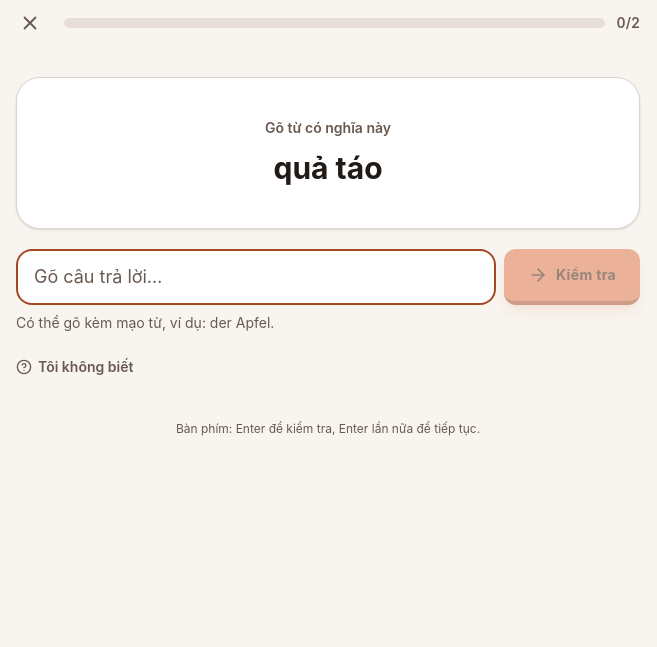
Scenario: PlayPage › checks a typed answer on the server and shows what was typed when wrong
The width and height of the screenshot is (657, 647).
Expected: the text "Có thể gõ kèm mạo từ, ví dụ: der Apfel." is shown, 16,314 -> 274,330
Step 1. Type "der Apfel" into the field named "Câu trả lời của bạn" → {"x": 256, "y": 276}, box 16,248 -> 496,304
Then press Enter
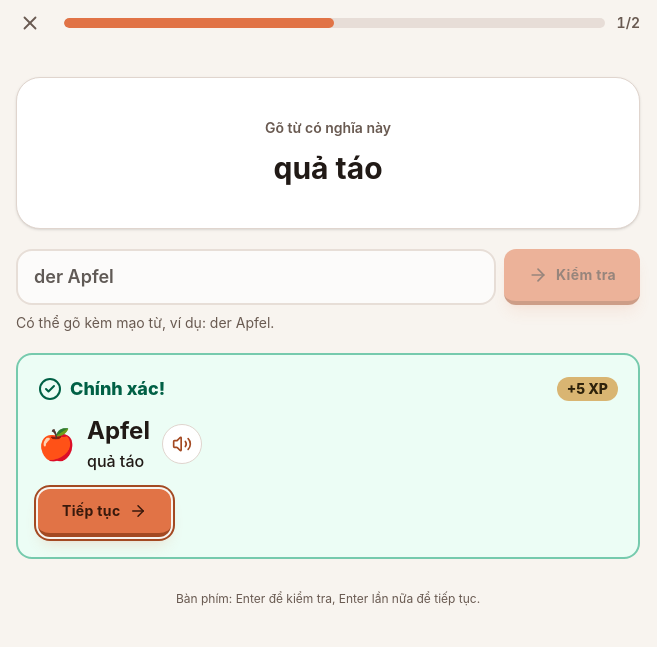
Result: the text "Chính xác!" is shown at 70,378 -> 165,398
Step 2. Press Enter
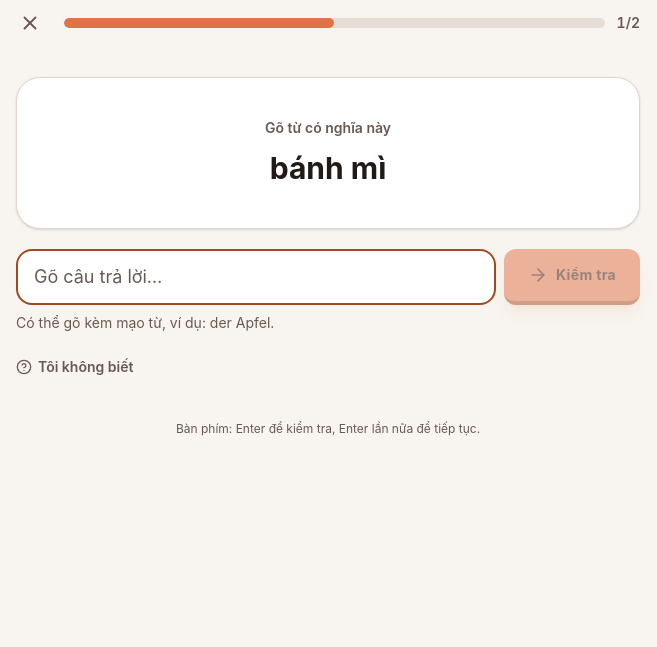
Step 3. Type "Brod" into the field named "Câu trả lời của bạn" → {"x": 256, "y": 276}, box 16,248 -> 496,304
Then press Enter
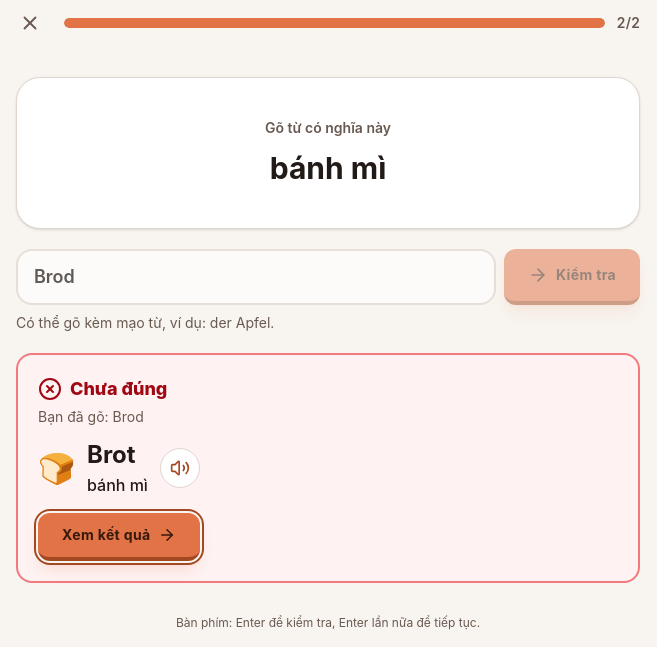
Result: the text "Bạn đã gõ: Brod" is shown at 38,408 -> 144,424
Result: the text "Brot" is shown at 87,438 -> 136,470
